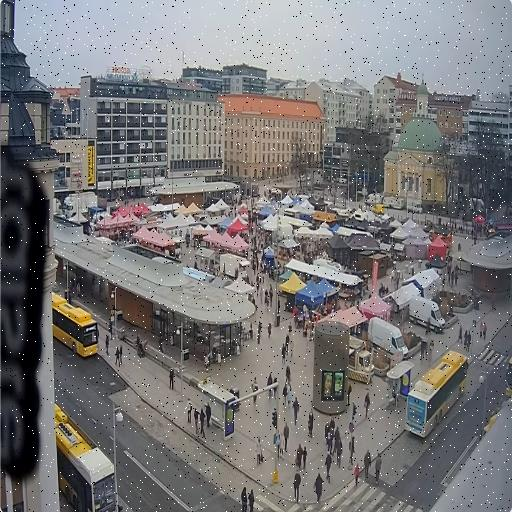Bus: (54, 403, 115, 511), (405, 351, 467, 437), (51, 293, 98, 357), (505, 358, 511, 397)
Delivery: (368, 318, 407, 358), (409, 297, 444, 332), (348, 337, 373, 383)
